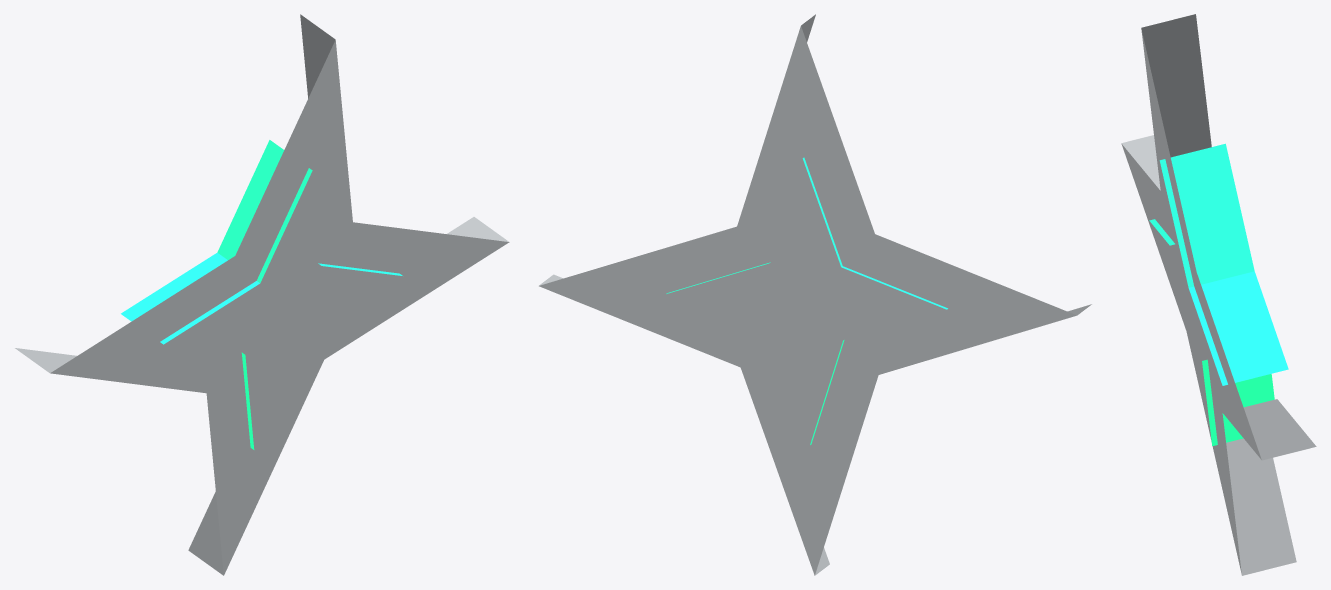
Rendered from vennet-spark.glb.
The picture shows the model from 3 angles, left to right: view 1: azimuth 30°, elevation 25°; view 2: azimuth 150°, elevation 25°; view 3: azimuth 270°, elevation 25°; orthographic projection. The views are drawn at different scales.
Parts seen in each view (by area): view 1: Spark_Chrome, Spark_Emerald_Core; view 2: Spark_Chrome, Spark_Emerald_Core; view 3: Spark_Chrome, Spark_Emerald_Core.
Part boxes in pixels (box(x1,y1,x2,y2)): Spark_Chrome: box(15, 14, 509, 575); Spark_Emerald_Core: box(121, 140, 402, 449); Spark_Chrome: box(539, 14, 1091, 575); Spark_Emerald_Core: box(666, 157, 947, 444); Spark_Chrome: box(1121, 14, 1316, 575); Spark_Emerald_Core: box(1149, 143, 1288, 446).
Bounding box in the file's own units: 2.73 × 2.75 × 0.8262.
